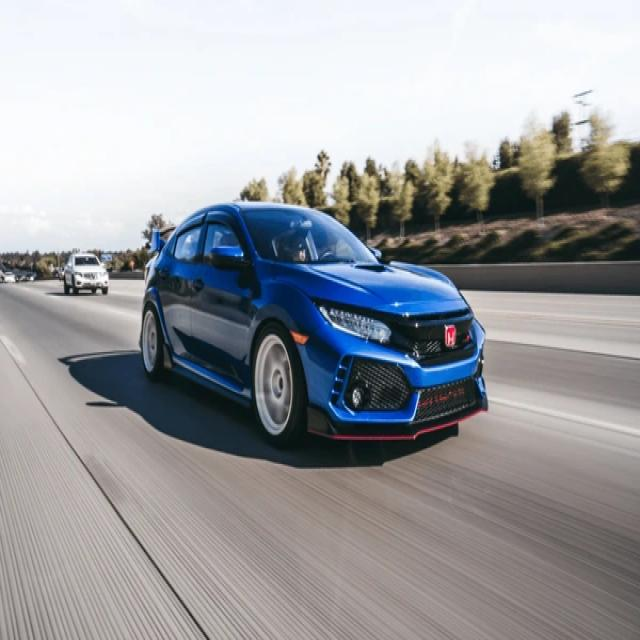honda: (437, 321, 460, 362)
